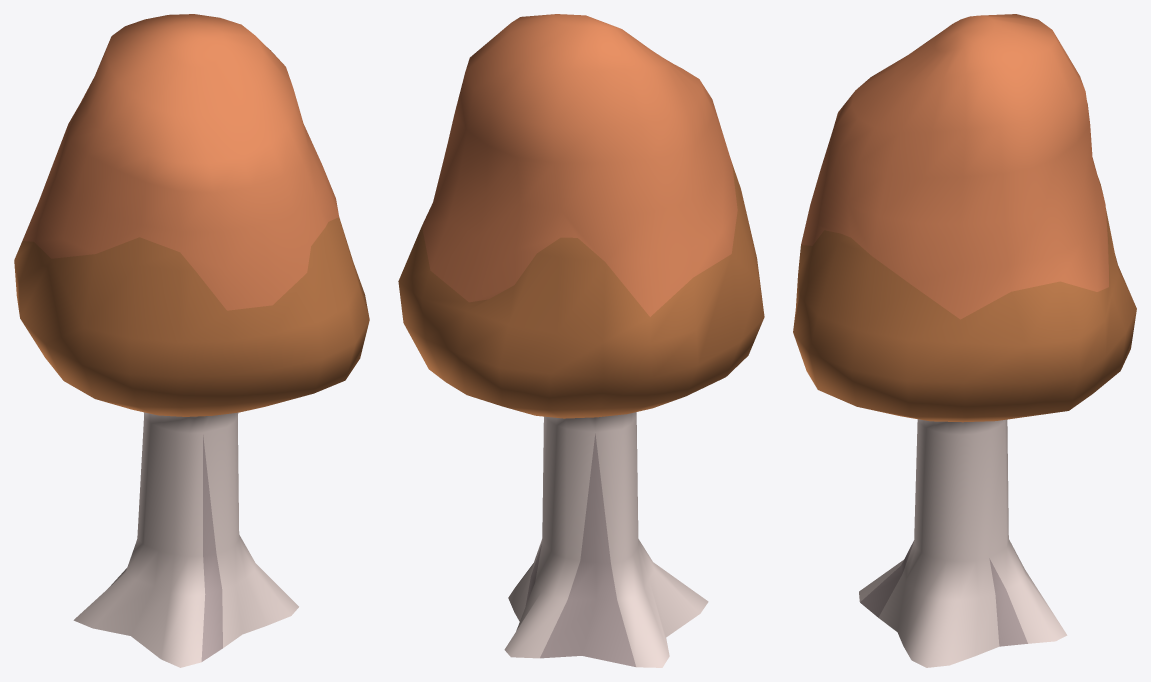
Rendered from Tree1.fbx.
3 renders of one model, left to right at view 1: azimuth 30°, elevation 25°; view 2: azimuth 150°, elevation 25°; view 3: azimuth 270°, elevation 25°, orthographic. The views are drawn at different scales.
Visible parts, largest first — view 1: Tree1; view 2: Tree1; view 3: Tree1.
Boxes of the visible parts, x1,y1,x2,y2 form: Tree1: (14, 14, 369, 667); Tree1: (398, 14, 764, 667); Tree1: (793, 14, 1136, 667).
Size of the model in its own units: 78.82 by 150 by 78.19.
